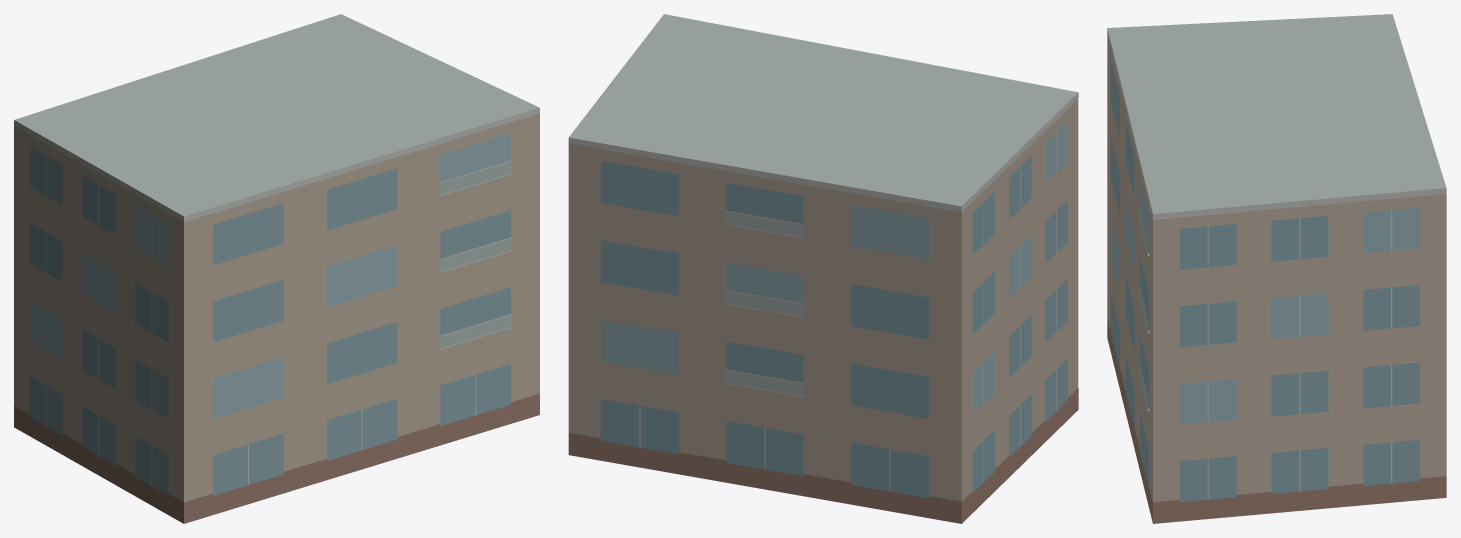
File: survey-upis-32818733.glb
The picture shows the model from 3 angles, left to right: view 1: azimuth 30°, elevation 25°; view 2: azimuth 150°, elevation 25°; view 3: azimuth 270°, elevation 25°; orthographic projection. The views are drawn at different scales.
Visible parts, largest first — view 1: survey-upis-32818733.tmp; view 2: survey-upis-32818733.tmp; view 3: survey-upis-32818733.tmp.
Boxes of the visible parts, x1,y1,x2,y2 form: survey-upis-32818733.tmp: [14, 14, 539, 523]; survey-upis-32818733.tmp: [568, 14, 1078, 523]; survey-upis-32818733.tmp: [1107, 14, 1446, 523].
Size of the model in its own units: 17.75 by 12.8 by 12.72.
